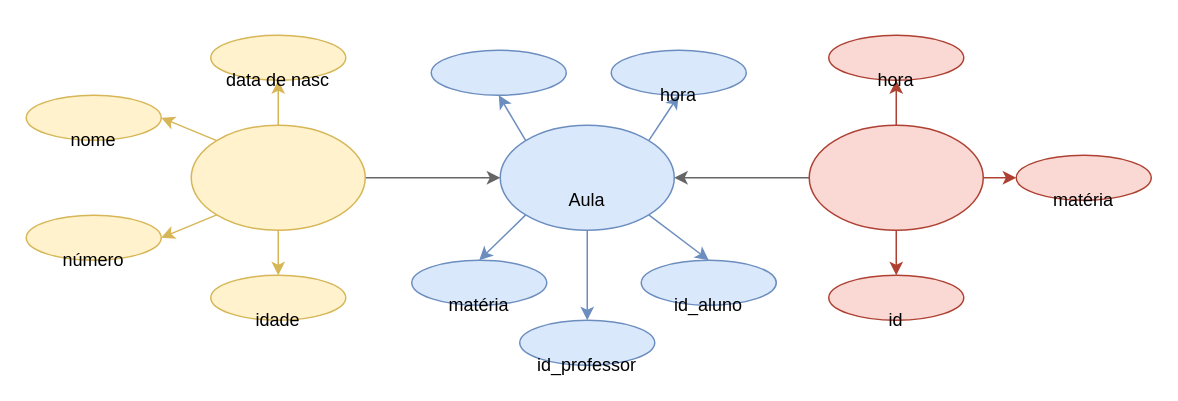
Image size: 1178x401. Some labels were removed from this diagram. Each missing label, with the centre of its shape:
Alunos: (277,177)
data: (498,72)
Professores: (895,177)
